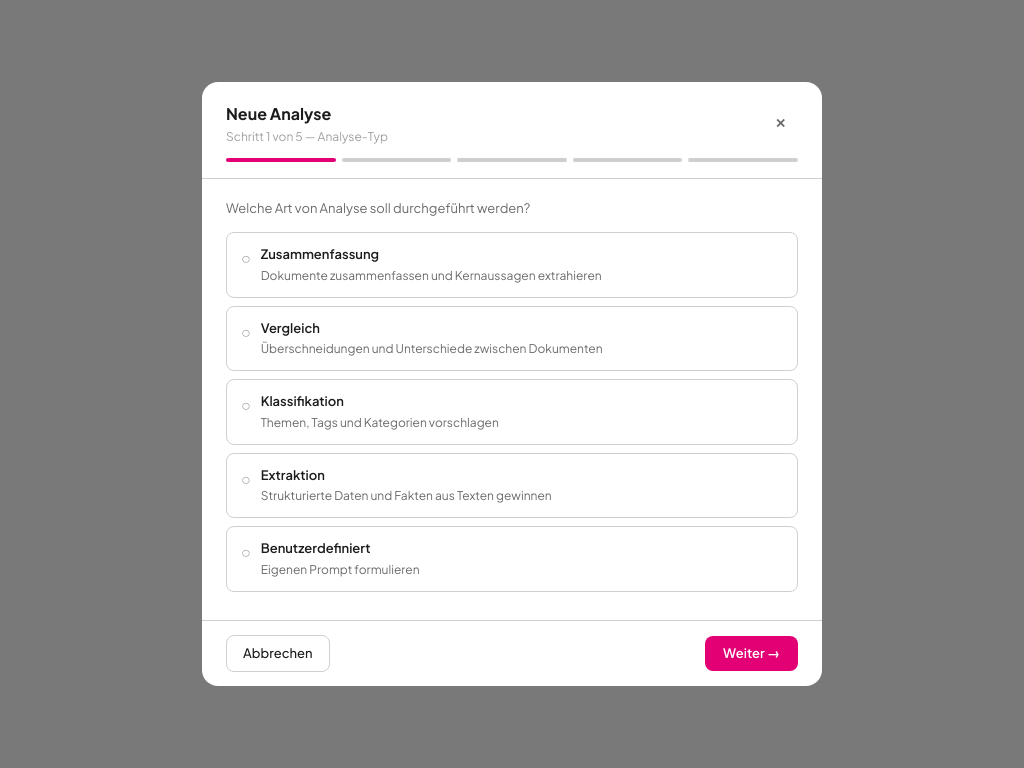
Test case: Step 1 — Analyse-Typ › blocks advance without selection
Click the button with test id "btn-next": [752, 654] box left=705, top=636, right=798, bottom=671
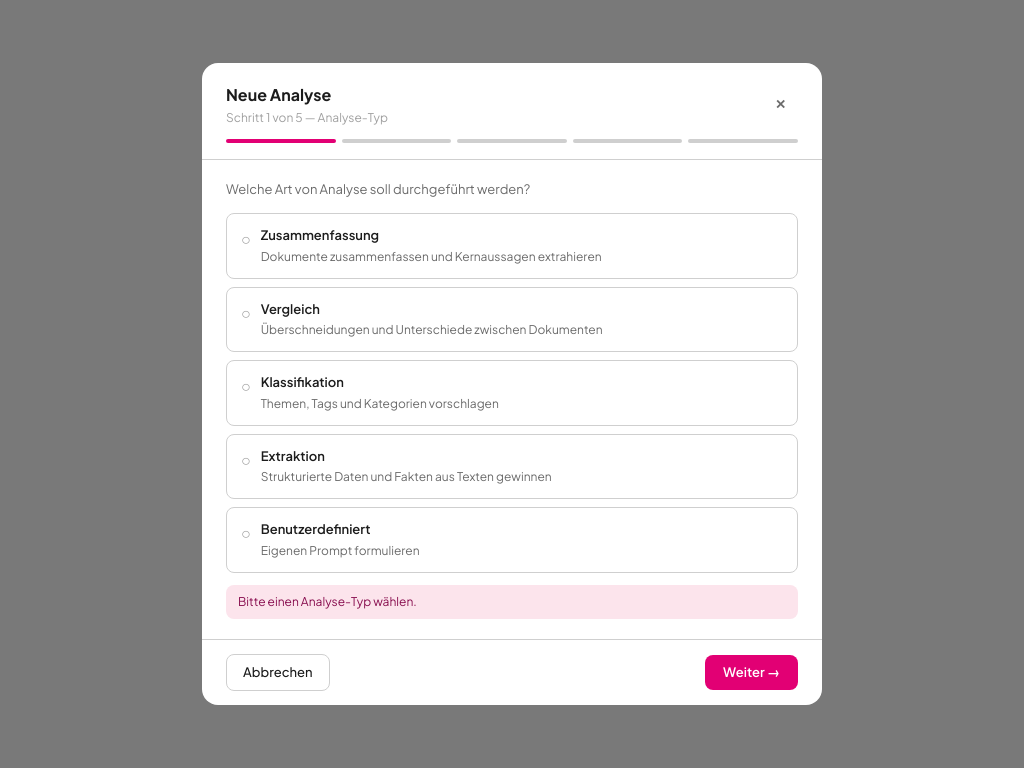
Expected: the radio button with test id "type-summarize" is shown, left=226, top=213, right=798, bottom=279
Expected: the text "Bitte einen Analyse-Typ wählen." is shown, left=226, top=585, right=798, bottom=619
